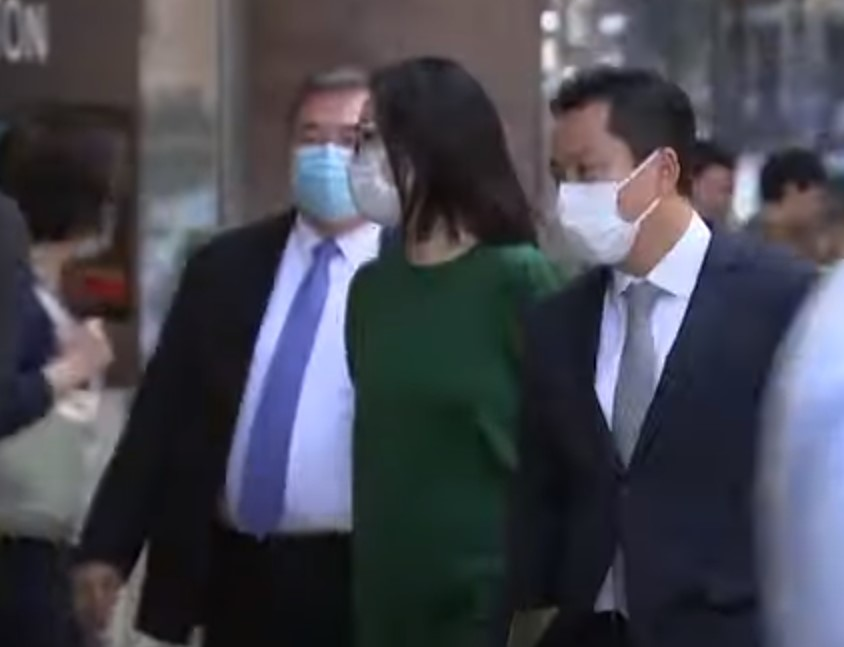face_with_mask: (536, 60, 695, 270), (343, 62, 501, 235), (285, 62, 376, 230)
